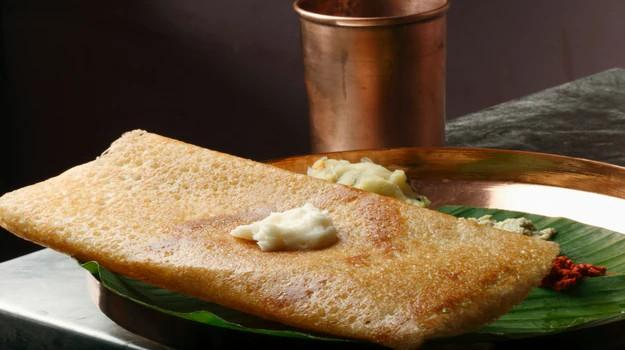Dosa: (0, 129, 559, 348)
